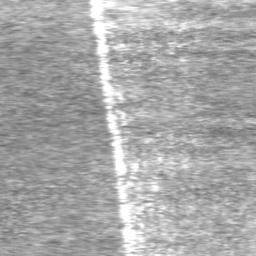Bright scratch: (89, 0, 137, 256)
